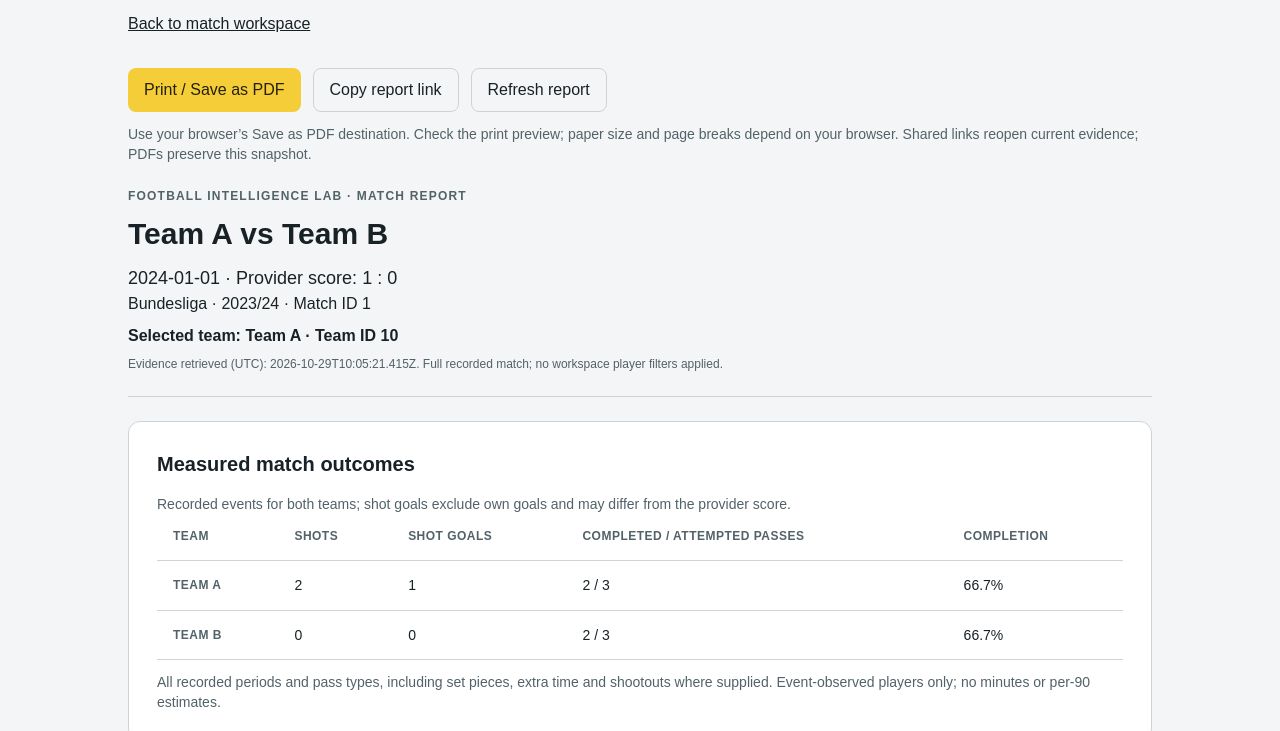
Scenario: report export and selection lifecycle › handles unavailable printing and copies a fully scoped live report link
Click the button "Print / Save as PDF" at (214, 90), box left=128, top=68, right=300, bottom=112
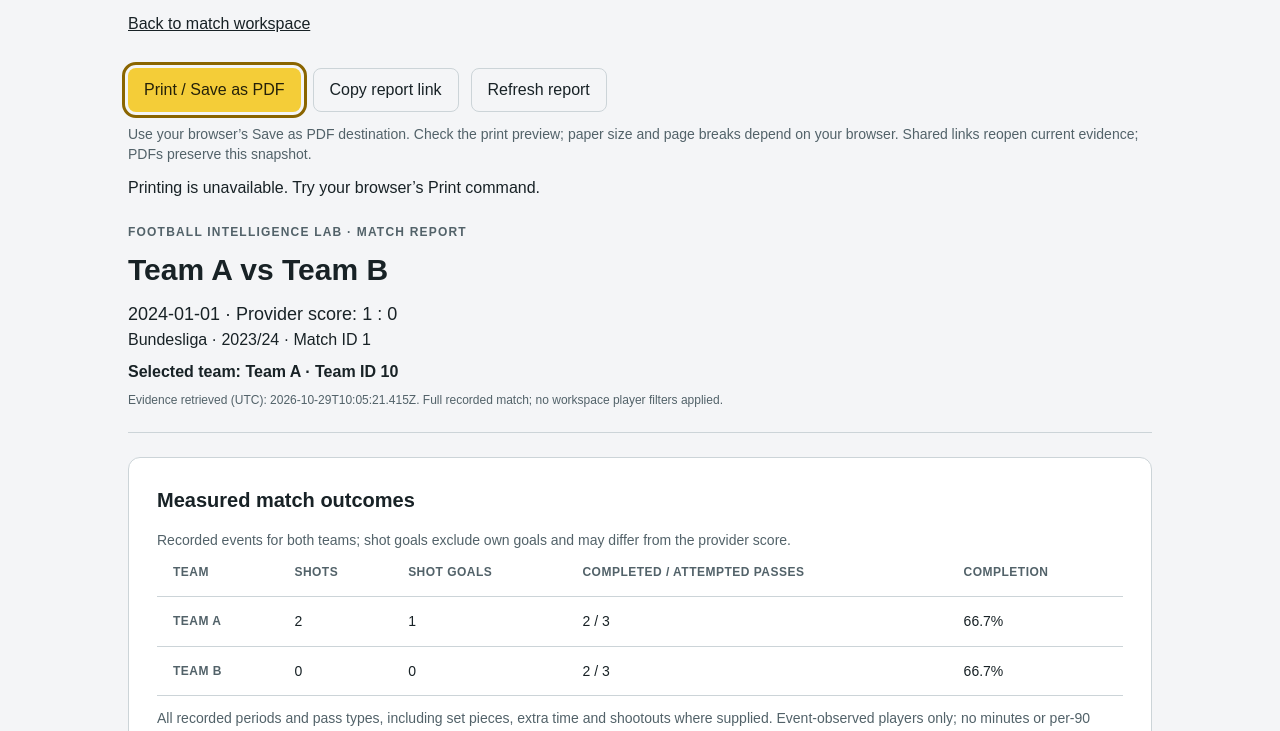
Check: the text "Printing is unavailable. Try your browser’s Print command." is shown, box left=128, top=179, right=540, bottom=196
Click the button "Copy report link" at (386, 90), box left=312, top=68, right=458, bottom=112
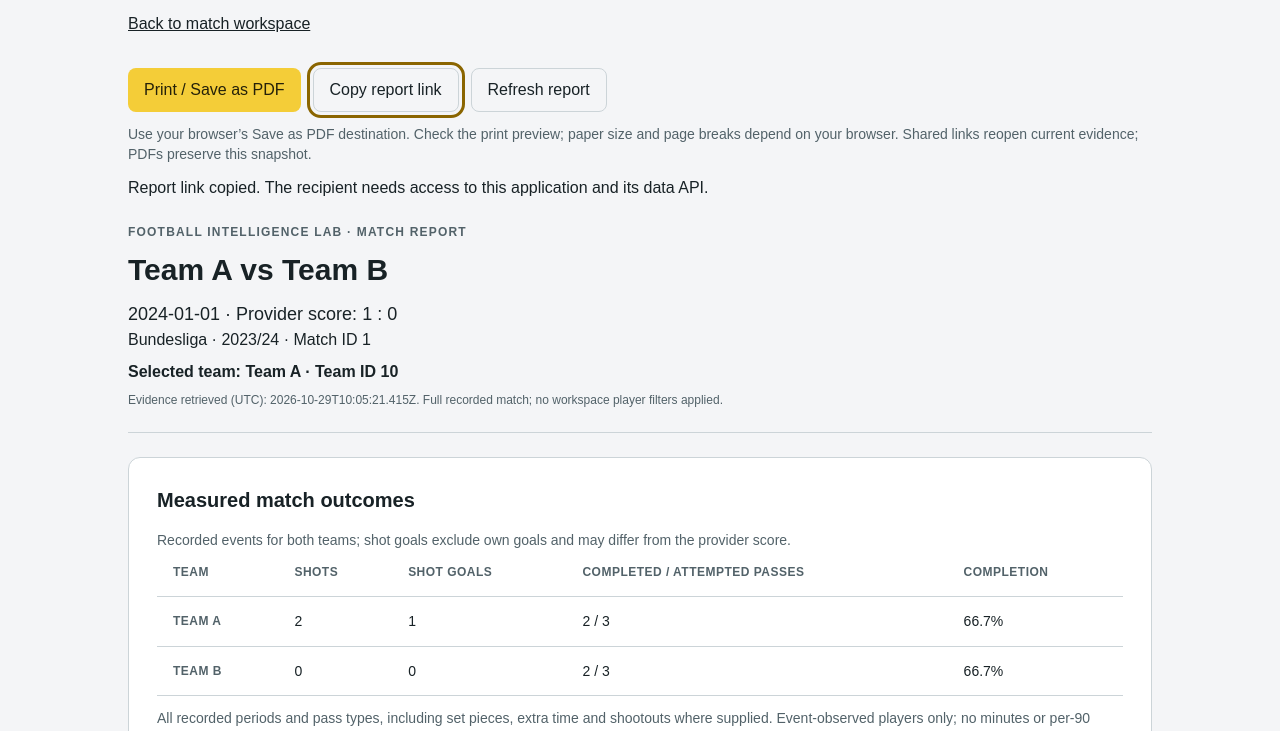
Check: the text "Report link copied" is shown, box left=128, top=179, right=708, bottom=196
Click the button "Copy report link" at (386, 90), box left=312, top=68, right=458, bottom=112
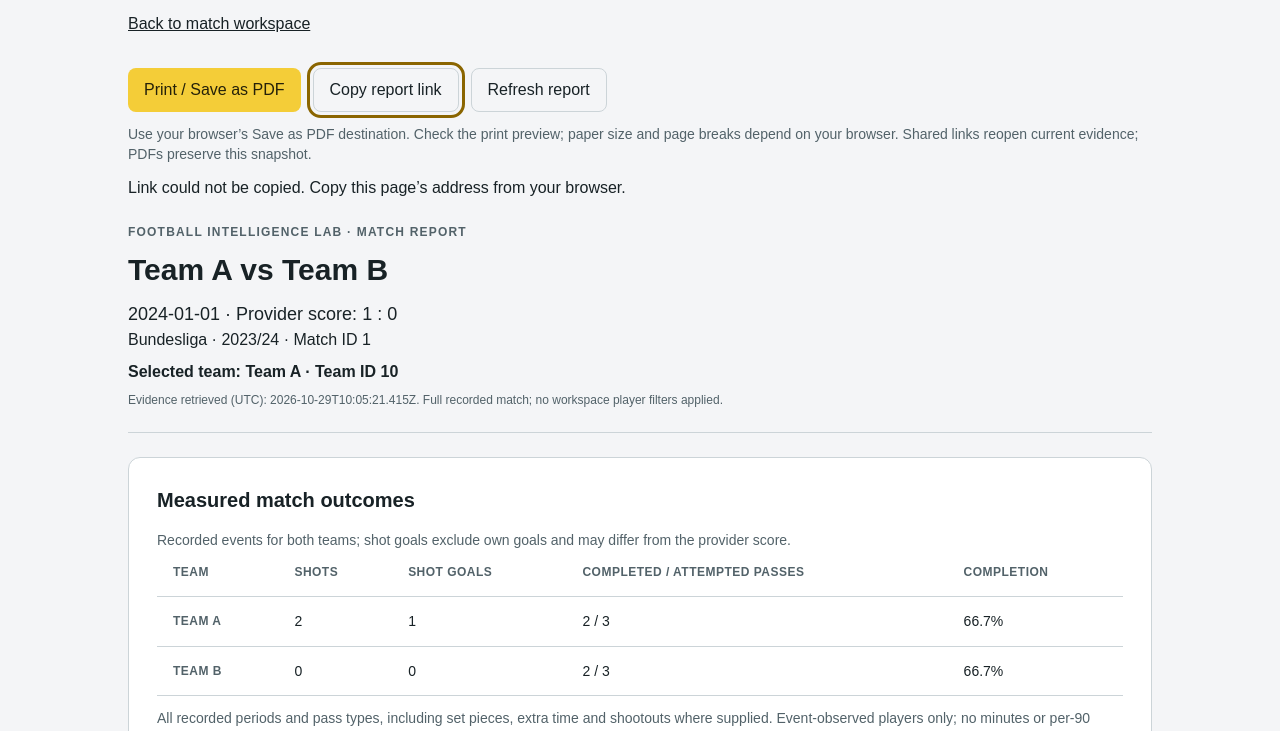
Check: the text "Link could not be copied. Copy this page’s address from your browser." is shown, box left=128, top=179, right=626, bottom=196
